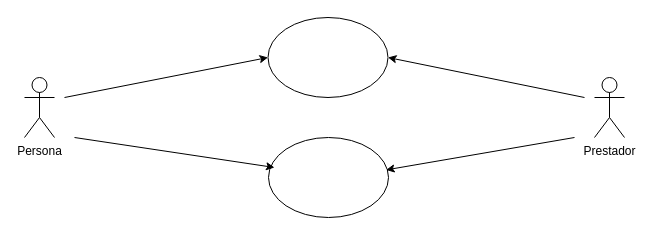
Image size: 653x235. Some labels were removed from this diagram. The centre of each missing label's shape, as x and y in pixels:
"Calificar contraparte" belongs at [327,57].
"Reportar un problema" belongs at [328,177].
